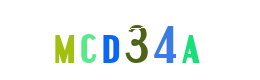3: (99, 0, 179, 80)
4: (101, 0, 181, 80)
A: (104, 0, 184, 80)
C: (87, 0, 167, 80)
D: (90, 0, 170, 80)
M: (28, 0, 108, 80)
